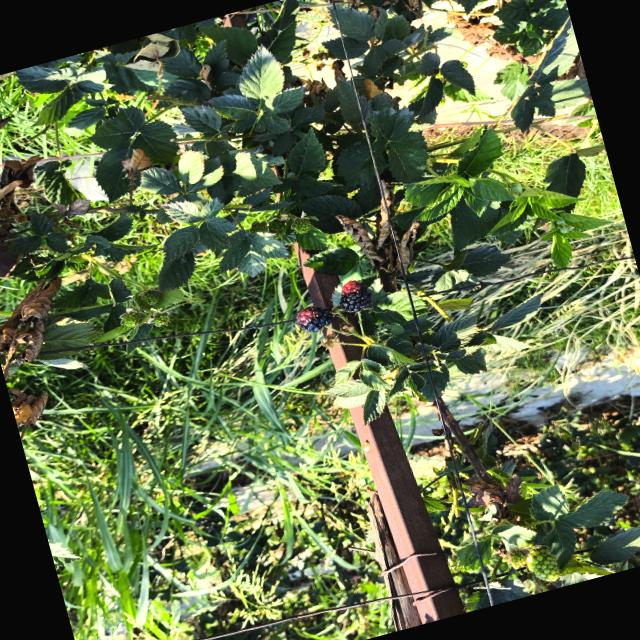marron: (339, 280, 371, 312), (297, 306, 332, 332)
